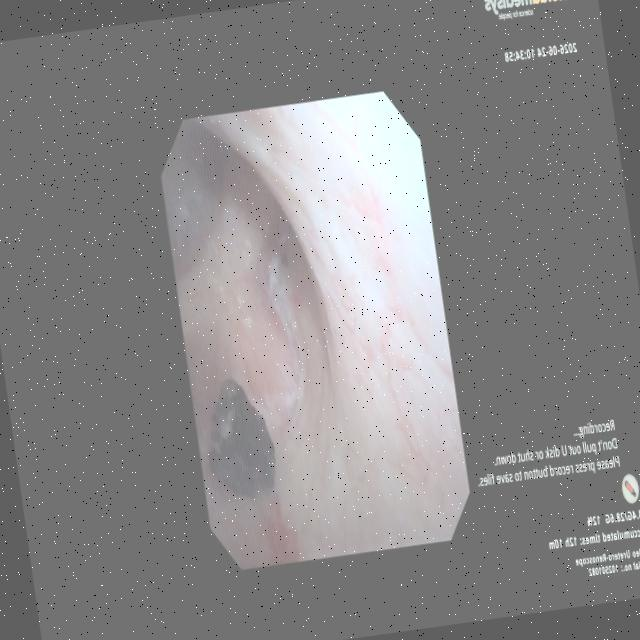stone-new: (209, 379, 275, 498)
